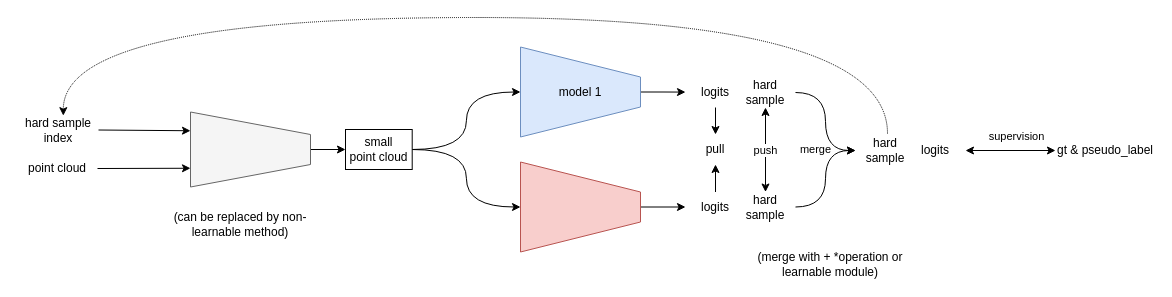
Some shapes in this 1172 by 297 pixel diagram are drawn without their labels. The centre of each missing label's shape, as x and y in pixels:
model 2: (580,206)
sampling model: (250,149)
